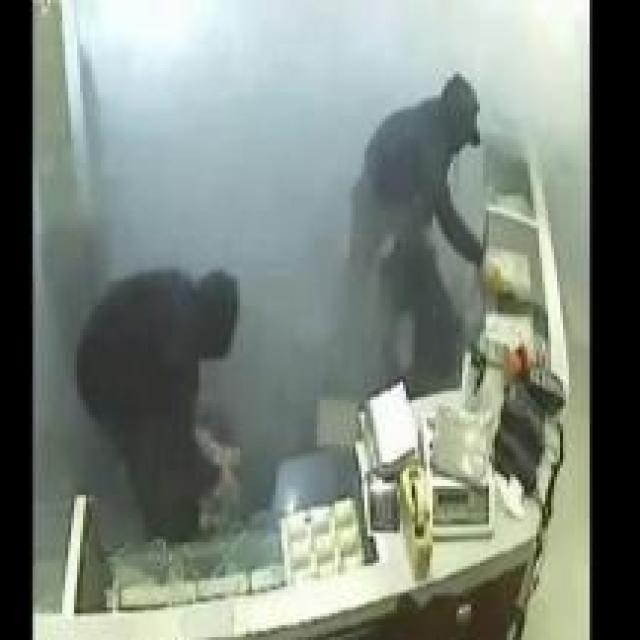fire: (41, 0, 376, 293)
